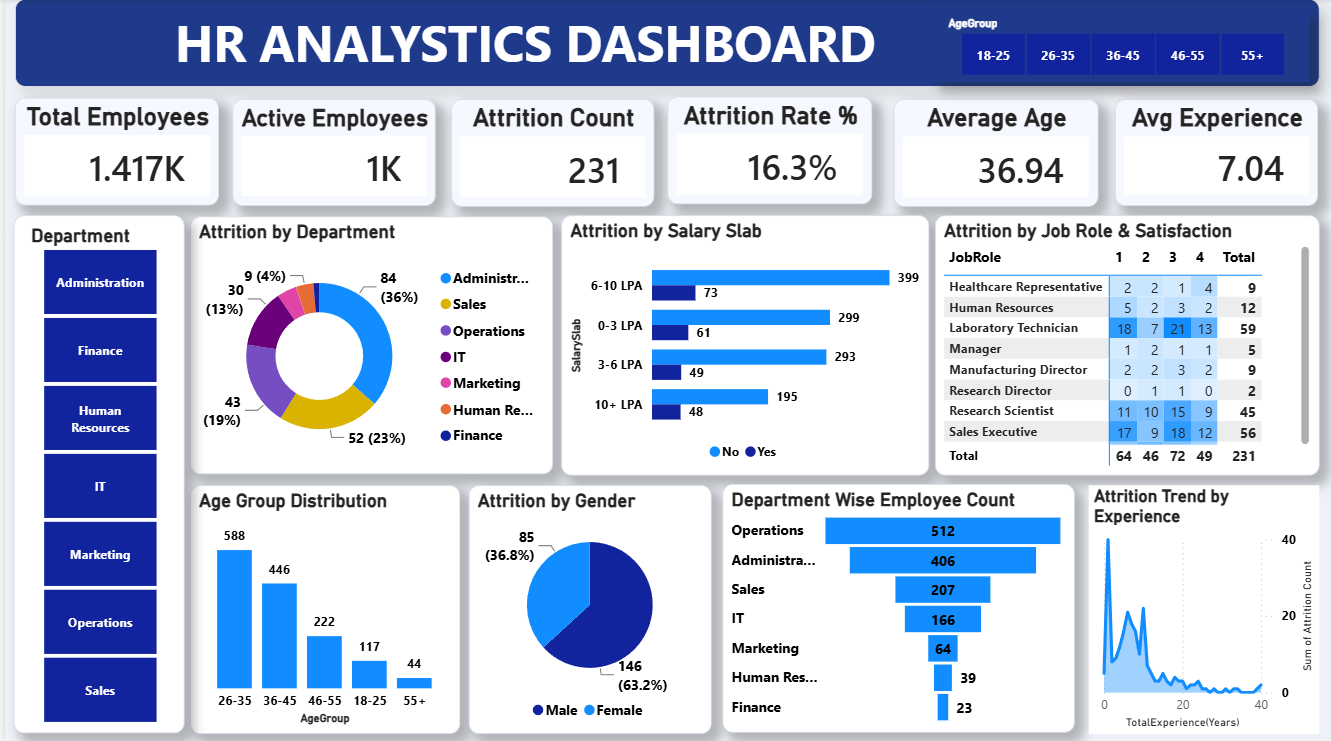

The dashboard page shown, as its layout file describes it:
{"tool":"powerbi","page":{"name":"Page 1","canvas":[1280,720],"ordinal":0},"visuals":[{"type":"textbox","box":[10,0,1259,85],"z":0},{"type":"cardVisual","title":"Total Employees","fields":{"Data":["CountNonNull(HR_Analytics.EmpID)"]},"box":[10,95,197,104],"z":1000},{"type":"cardVisual","title":"Active Employees","fields":{"Data":["Sum(HR_Analytics.EmployeeCount)"]},"box":[219.6,96.1,196.2,102.9],"z":2000},{"type":"cardVisual","title":"Attrition Count","fields":{"Data":["Sum(HR_Analytics.Attrition Count)"]},"box":[430.9,96.1,196.2,104.3],"z":3000},{"type":"cardVisual","title":"Attrition Rate %","fields":{"Data":["HR_Analytics.Attrition Rate %"]},"box":[639.5,94.7,197.6,104.3],"z":4000},{"type":"cardVisual","title":"Average Age","fields":{"Data":["Avg(HR_Analytics.Age)"]},"box":[857.6,96.1,197.6,104.3],"z":5000},{"type":"cardVisual","title":"Avg Experience","fields":{"Data":["Avg(HR_Analytics.YearsatCompany)"]},"box":[1071.7,96.1,196.2,102.9],"z":6000},{"type":"donutChart","title":"Attrition by Department","fields":{"Category":["HR_Analytics.Department"],"Y":["Sum(HR_Analytics.Attrition Count)"]},"box":[179,210,350,249],"z":7000},{"type":"clusteredBarChart","title":"Attrition by Salary Slab","fields":{"Category":["HR_Analytics.SalarySlab"],"Y":["CountNonNull(HR_Analytics.EmpID)"],"Series":["HR_Analytics.Attrition"]},"box":[537,209,355,251],"z":8000},{"type":"pivotTable","title":"Attrition by Job Role & Satisfaction","fields":{"Rows":["HR_Analytics.JobRole"],"Values":["Sum(HR_Analytics.Attrition Count)"],"Columns":["HR_Analytics.JobSatisfaction"]},"box":[898,209,371,251],"z":9000},{"type":"columnChart","title":"Age Group Distribution","fields":{"Category":["HR_Analytics.AgeGroup"],"Y":["Sum(HR_Analytics.EmployeeCount)"]},"box":[179,469,261,240],"z":10000},{"type":"pieChart","title":"Attrition by Gender","fields":{"Category":["HR_Analytics.Gender"],"Series":["HR_Analytics.Attrition Count"],"Y":["Sum(HR_Analytics.Attrition Count)"]},"box":[448,469,234,240],"z":11000},{"type":"funnel","title":"Department Wise Employee Count","fields":{"Category":["HR_Analytics.Department"],"Y":["CountNonNull(HR_Analytics.EmpID)"]},"box":[693,467.9,340.3,240.1],"z":12000},{"type":"areaChart","title":"Attrition Trend by Experience","fields":{"Category":["HR_Analytics.TotalExperience(Years)"],"Y2":["Sum(HR_Analytics.Attrition Count)"]},"box":[1045.6,469.3,222.3,240.1],"z":12001},{"type":"slicer","fields":{"Values":["HR_Analytics.Department"]},"box":[9,209,165,500],"z":12002},{"type":"slicer","fields":{"Values":["HR_Analytics.AgeGroup"]},"box":[898,12,361,68],"z":12003}]}

Visuals, with their boxes in screenshot pixels (x1, y1, x2, y2), scaled from the page's 1280x720 canvas onto the 1331x741 screenshot:
textbox: [left=10, top=0, right=1320, bottom=87]
"Total Employees" cardVisual: [left=10, top=98, right=215, bottom=205]
"Active Employees" cardVisual: [left=228, top=99, right=432, bottom=205]
"Attrition Count" cardVisual: [left=448, top=99, right=652, bottom=206]
"Attrition Rate %" cardVisual: [left=665, top=97, right=870, bottom=205]
"Average Age" cardVisual: [left=892, top=99, right=1097, bottom=206]
"Avg Experience" cardVisual: [left=1114, top=99, right=1318, bottom=205]
"Attrition by Department" donutChart: [left=186, top=216, right=550, bottom=472]
"Attrition by Salary Slab" clusteredBarChart: [left=558, top=215, right=928, bottom=473]
"Attrition by Job Role & Satisfaction" pivotTable: [left=934, top=215, right=1320, bottom=473]
"Age Group Distribution" columnChart: [left=186, top=483, right=458, bottom=730]
"Attrition by Gender" pieChart: [left=466, top=483, right=709, bottom=730]
"Department Wise Employee Count" funnel: [left=721, top=482, right=1074, bottom=729]
"Attrition Trend by Experience" areaChart: [left=1087, top=483, right=1318, bottom=730]
slicer - HR_Analytics.Department: [left=9, top=215, right=181, bottom=730]
slicer - HR_Analytics.AgeGroup: [left=934, top=12, right=1309, bottom=82]
